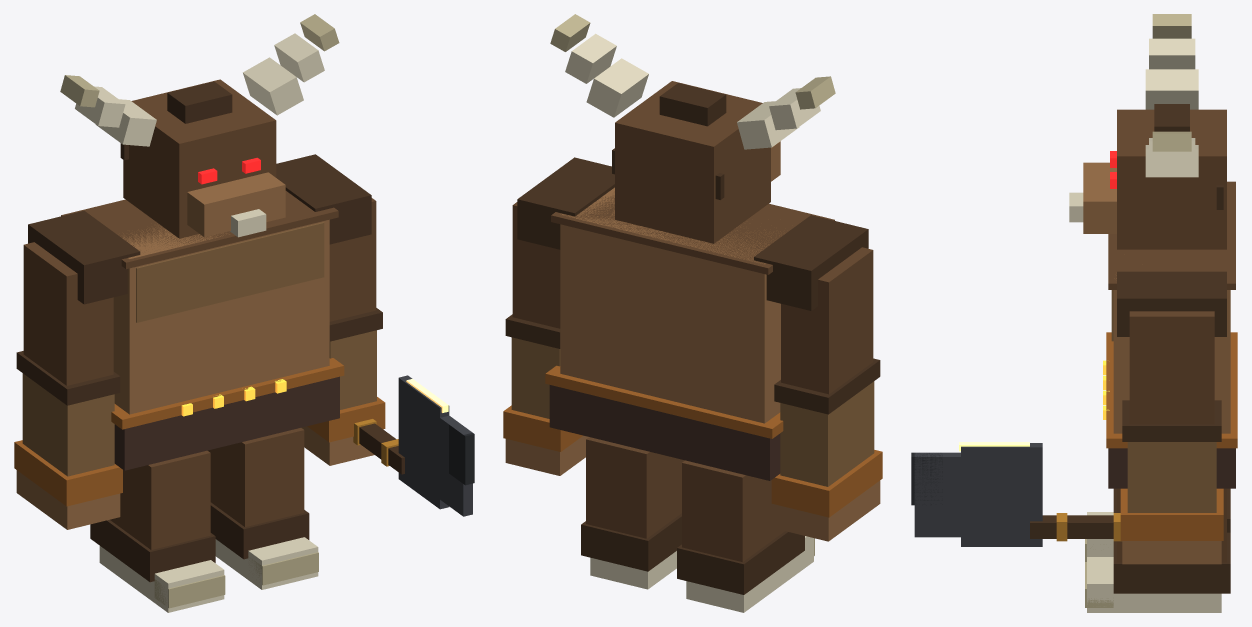
File: mythic__minotaur.glb
3 views of the same model, side by side, from view 1: azimuth 30°, elevation 25°; view 2: azimuth 150°, elevation 25°; view 3: azimuth 270°, elevation 25° (orthographic). The views are drawn at different scales.
Parts seen in each view (by area): view 1: mythic__minotaur, rig_armL, rig_armR, rig_legL, rig_legR; view 2: mythic__minotaur, rig_armL, rig_legL, rig_legR, rig_armR; view 3: mythic__minotaur, rig_armR, rig_legR, rig_legL.
Boxes of the visible parts, bbox=[...] form: mythic__minotaur: bbox=[28, 14, 371, 470]; rig_armL: bbox=[14, 242, 122, 529]; rig_armR: bbox=[301, 198, 474, 516]; rig_legL: bbox=[90, 450, 225, 612]; rig_legR: bbox=[207, 428, 318, 589]; mythic__minotaur: bbox=[517, 14, 868, 480]; rig_armL: bbox=[771, 247, 882, 541]; rig_legL: bbox=[677, 460, 814, 612]; rig_legR: bbox=[581, 437, 684, 589]; rig_armR: bbox=[503, 202, 588, 475]; mythic__minotaur: bbox=[1069, 14, 1237, 488]; rig_armR: bbox=[911, 311, 1223, 564]; rig_legR: bbox=[1085, 488, 1230, 612]; rig_legL: bbox=[1085, 488, 1230, 561].
Size of the model in its own units: 2.04 by 3.13 by 1.84.
